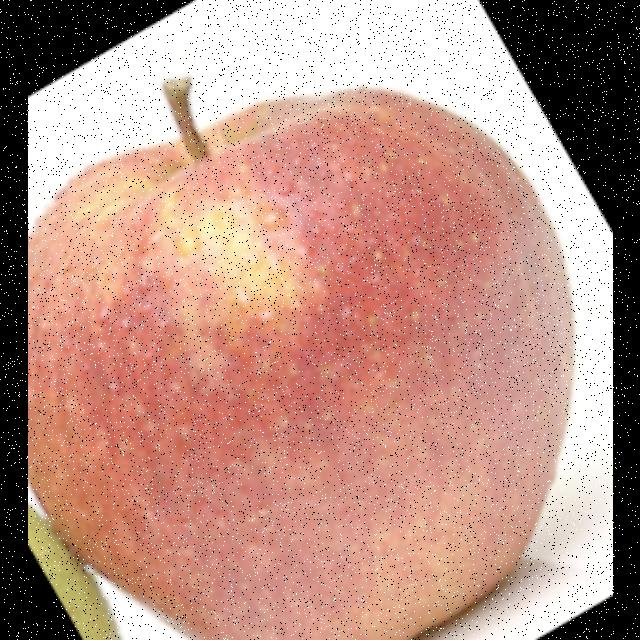Apel Segar: (27, 78, 577, 640)
